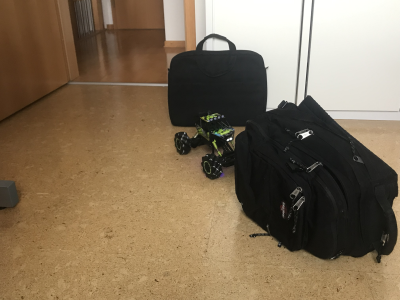remote control car: (170, 105, 250, 179)
